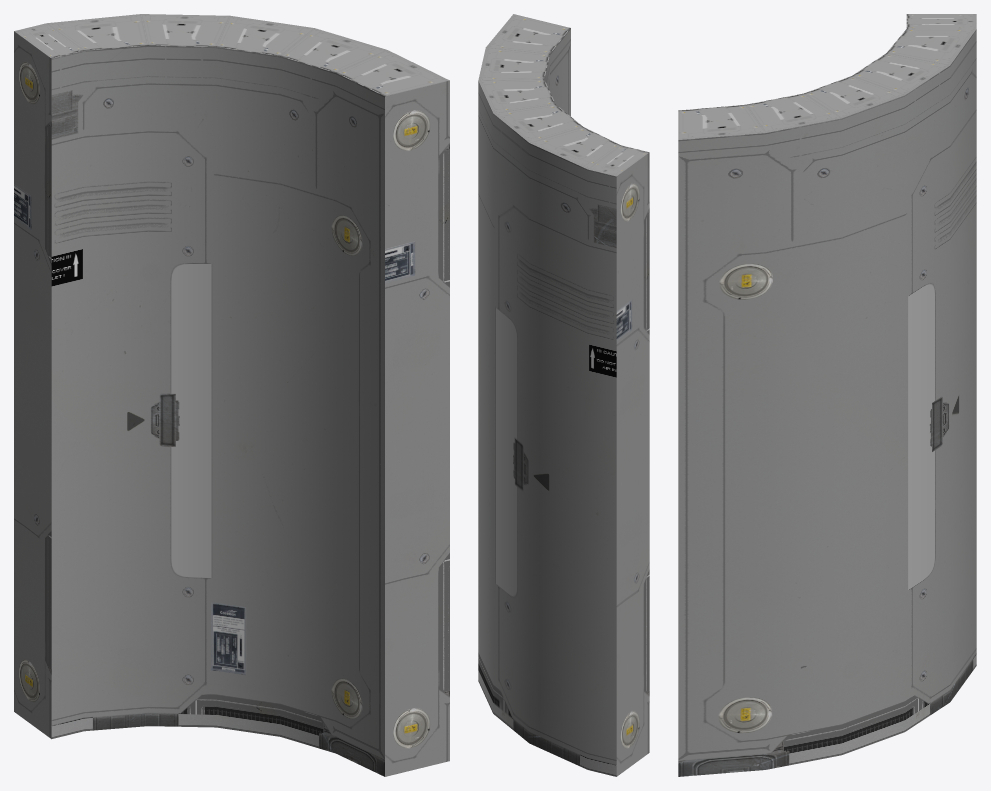
File: SM_Walls_CURVED09.fbx
3 views of the same model, side by side, from view 1: azimuth 30°, elevation 25°; view 2: azimuth 150°, elevation 25°; view 3: azimuth 270°, elevation 25° (orthographic). The views are drawn at different scales.
Parts seen in each view (by area): view 1: SM_Walls_CURVED09_LOD0; view 2: SM_Walls_CURVED09_LOD0; view 3: SM_Walls_CURVED09_LOD0.
Boxes of the visible parts, bbox=[...] form: SM_Walls_CURVED09_LOD0: bbox=[14, 14, 449, 776]; SM_Walls_CURVED09_LOD0: bbox=[478, 14, 649, 776]; SM_Walls_CURVED09_LOD0: bbox=[678, 14, 976, 776].
Bounding box in the file's own units: 170 × 170 × 400.
Materials: 1 (1 with a texture image).
